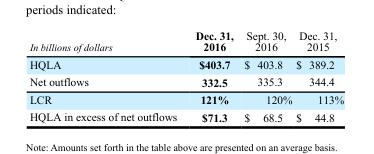table: (28, 28, 343, 123)
table column: (28, 28, 185, 123), (238, 28, 293, 123), (185, 28, 238, 123), (293, 28, 343, 123)
table column header: (28, 28, 343, 55)
table row: (28, 28, 343, 55), (28, 72, 343, 90), (28, 55, 343, 72), (28, 90, 343, 107), (28, 107, 343, 123)
